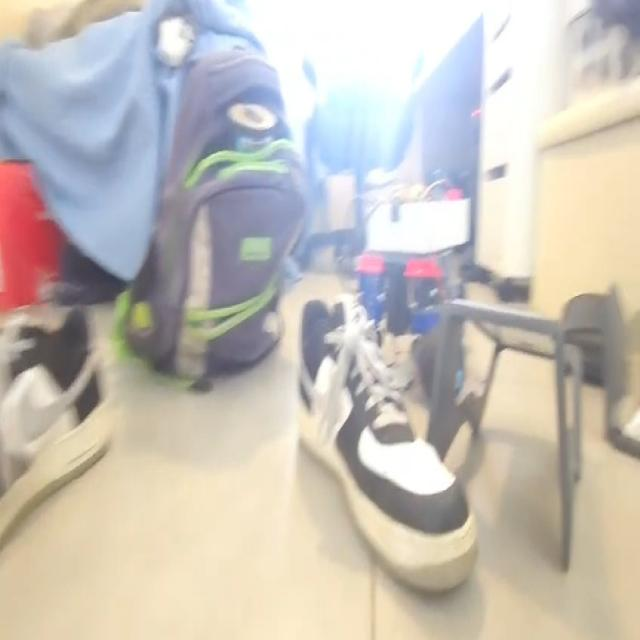Robot: (352, 184, 470, 401)
